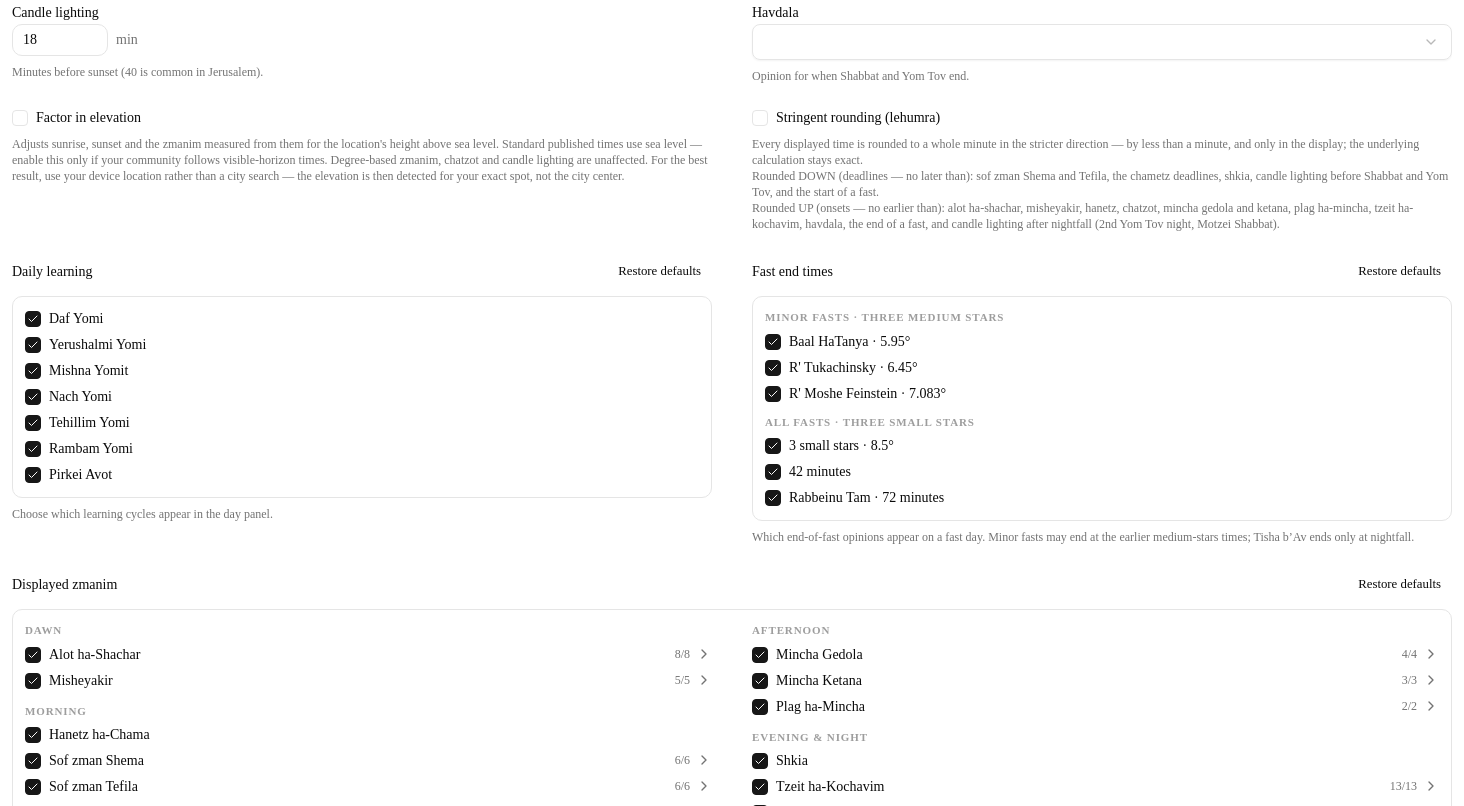
Scenario: candle-lighting offset field › clamps an out-of-range entry on blur rather than while it is typed
Replace the text in the number field labelled "Candle lighting" with "150" at (60, 40), box [12,24,108,56]
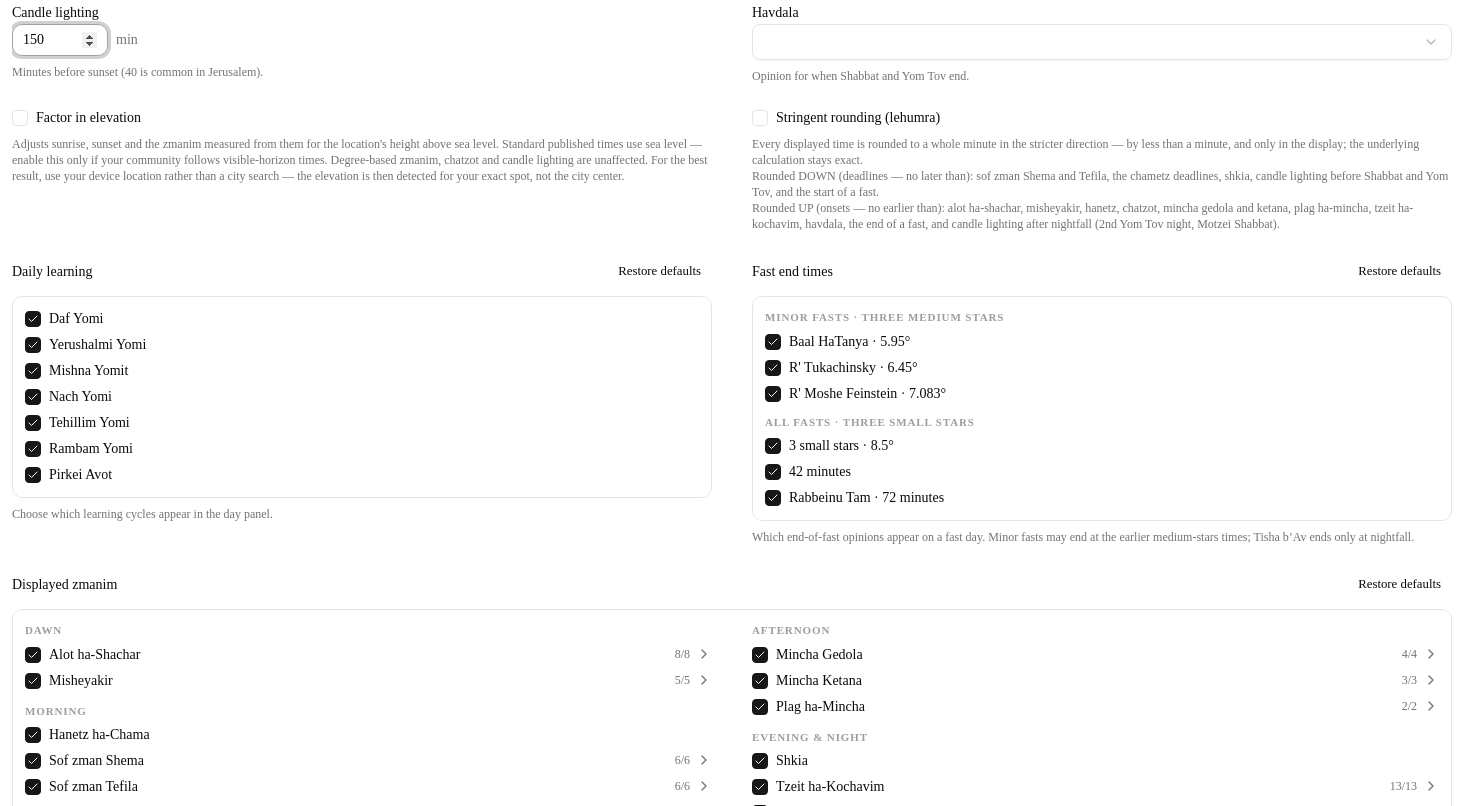
Press Tab
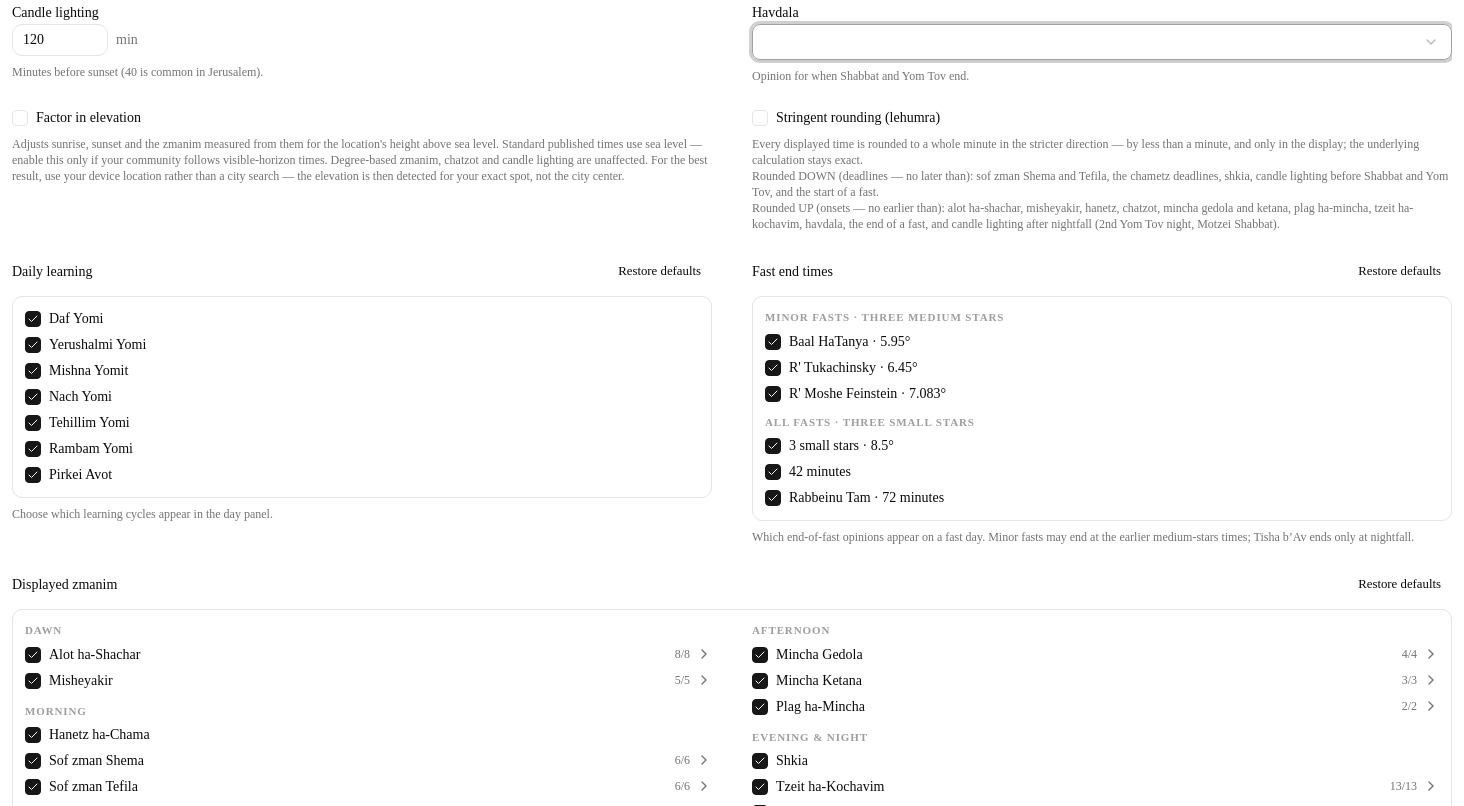
Expected: the number field labelled "Candle lighting" holds "120", [12,24,108,56]
